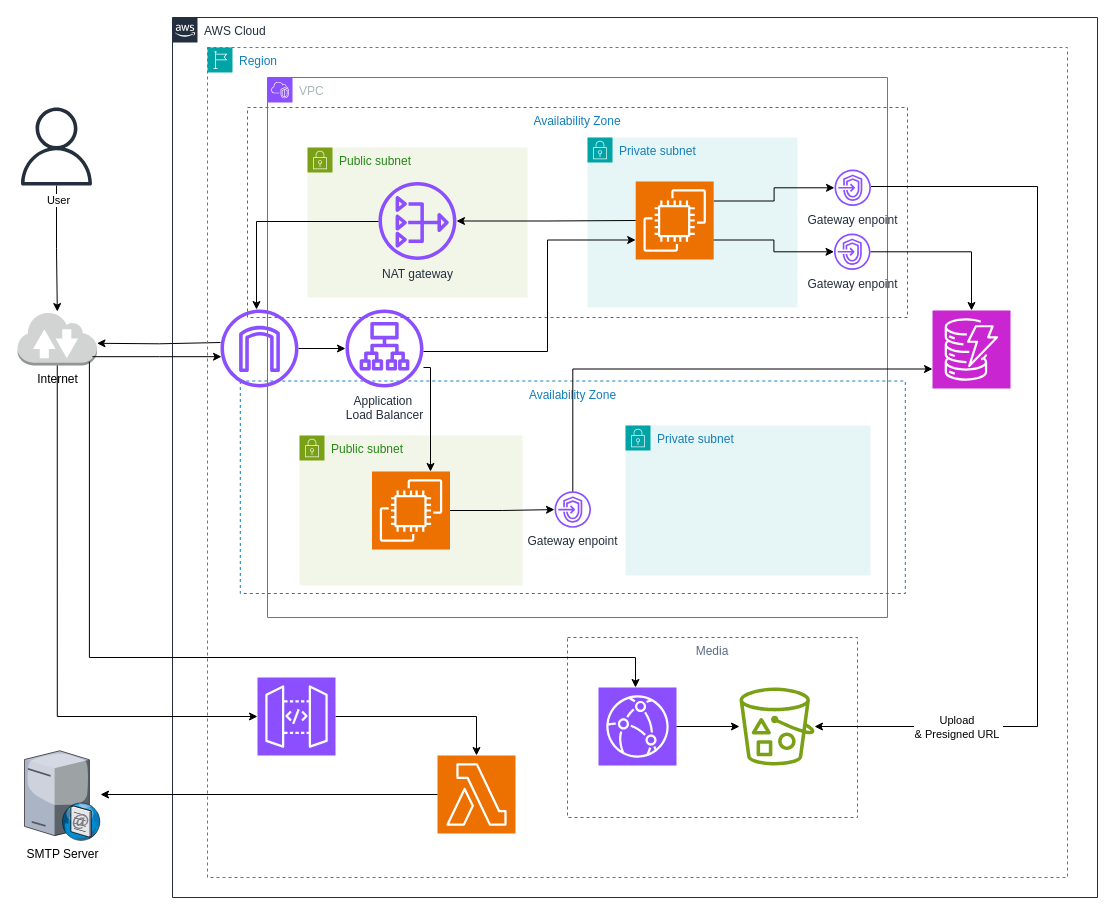
This 1115x915 diagram has some shape labels left out. Here are the shapes that lost their labels. From the top down, the centre of each, then its label:
At (x=674, y=220): "admin and employee services".
At (x=259, y=348): "Internet gateway".
At (x=971, y=349): "DynamoDB".
At (x=410, y=510): "customer service".
At (x=296, y=716): "API gateway REST API".
At (x=637, y=726): "Amazon CloudFront".
At (x=776, y=726): "S3 bucket with media files".
At (x=476, y=794): "AWS Lambda email service".
